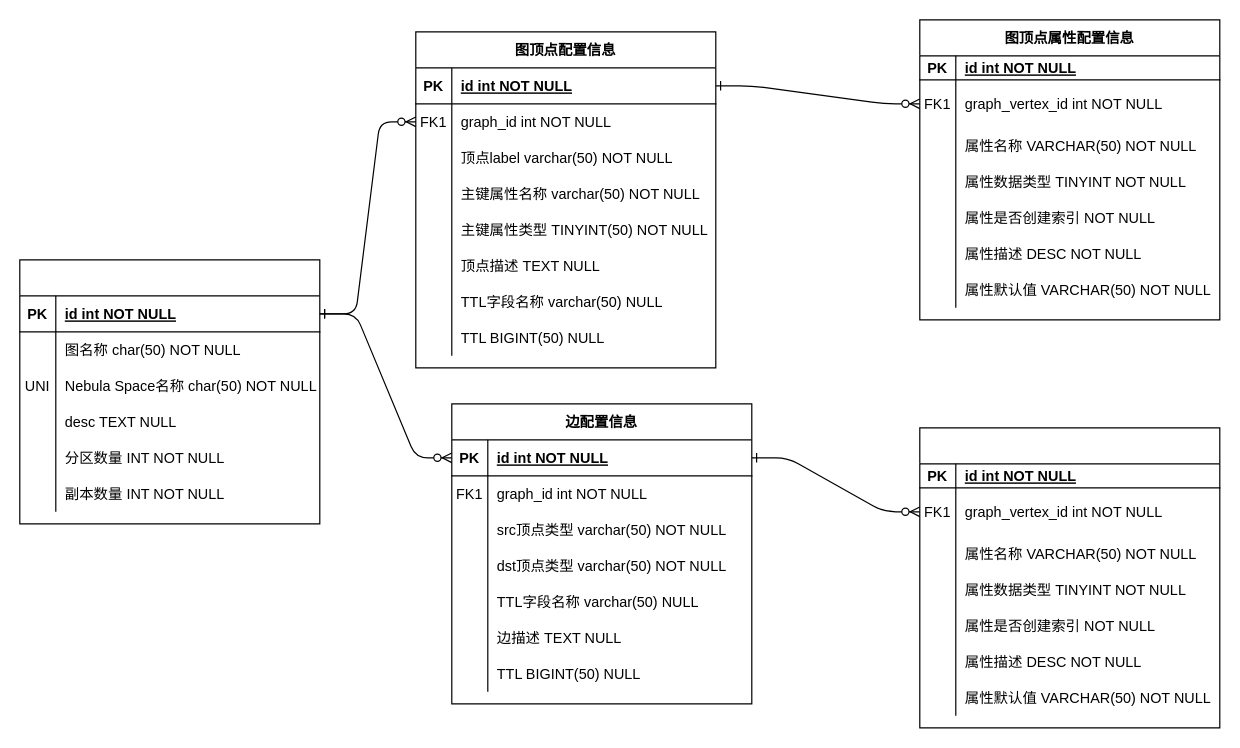
The diagram is 1240 pixels wide and 748 high, and some of its shapes have lost their labels. Each missing label, with the box of its shape:
图配置基本信息: (19, 259, 320, 524)
边属性配置信息: (919, 427, 1220, 728)
